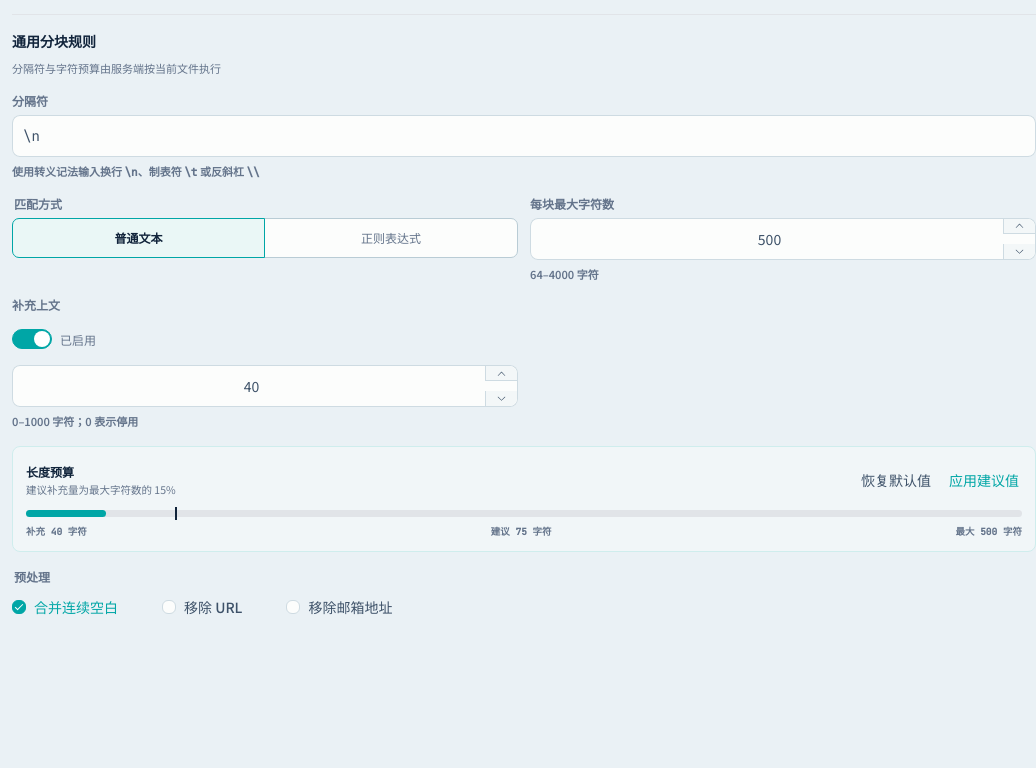
GeneralStrategyConfig › updates the 15% suggestion without mutating overlap until explicitly applied
Replace the text in the number field labelled "每块最大字符数 64–4000 字符" with "800" at {"x": 770, "y": 238}, box [545,218,994,258]
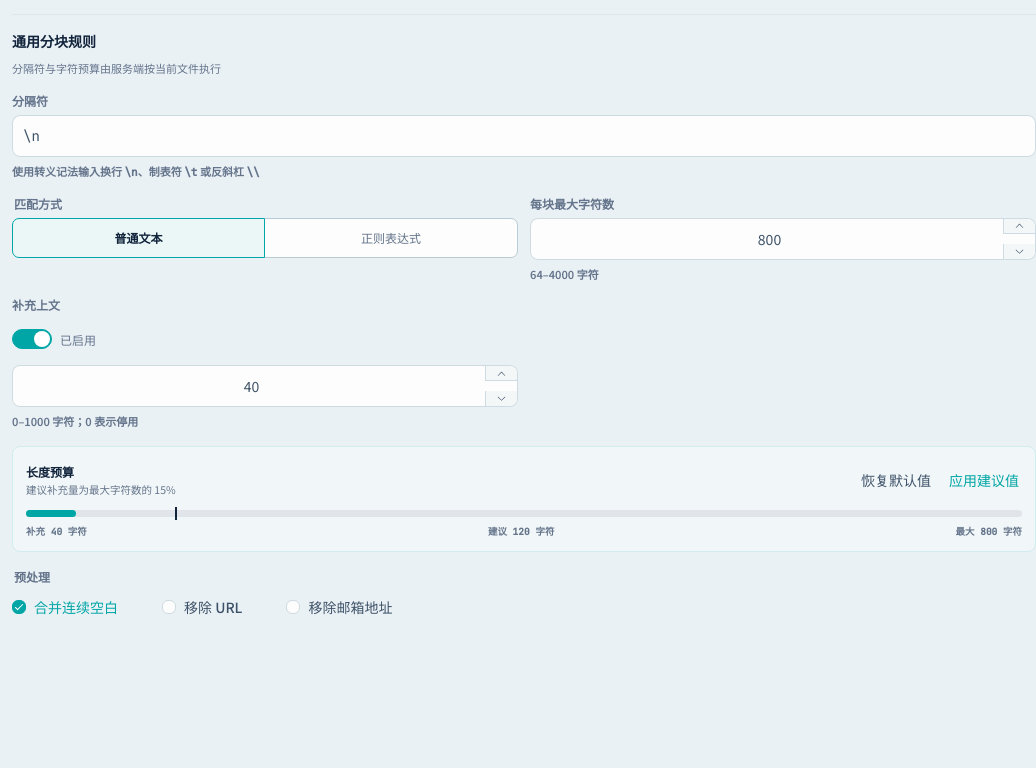
Expected: the 2nd number field holds "40", [27,366,476,406]
Expected: the text with test id "recommended-overlap" shows "120", [488,524,554,538]
Click the button with test id "apply-overlap-suggestion".
click(984, 480)  # box [946,460,1022,500]
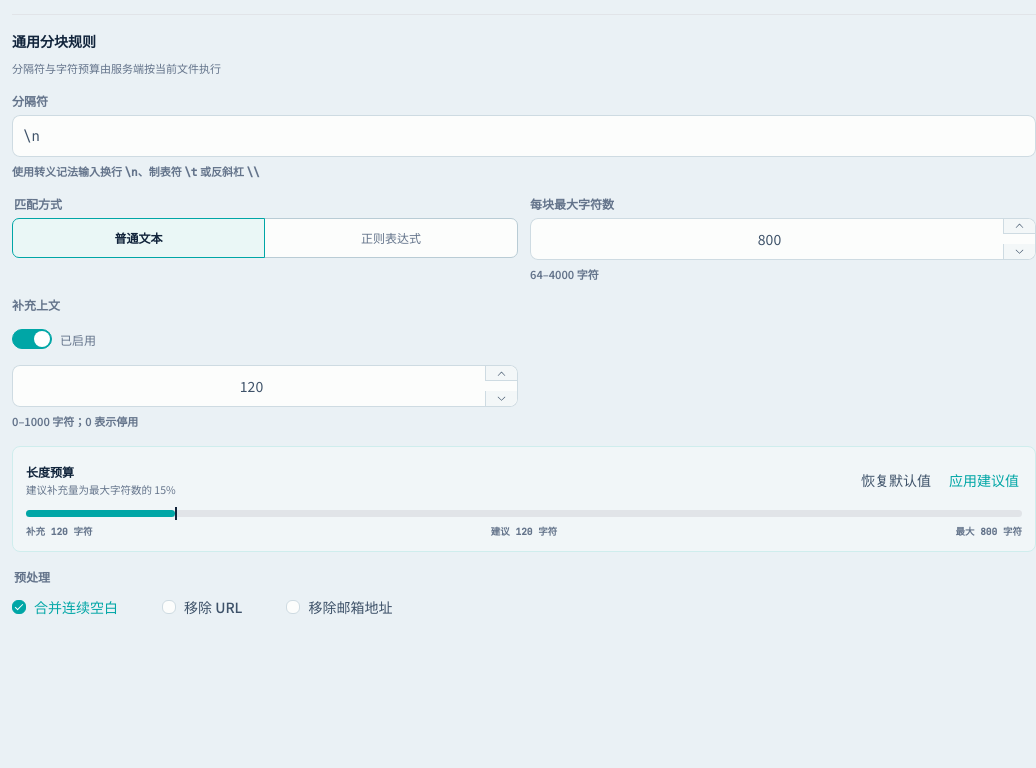
Expected: the 2nd number field holds "120", [27,366,476,406]
